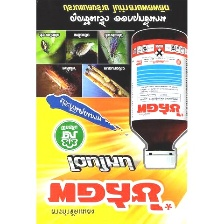insecticide: (128, 26, 193, 170)
